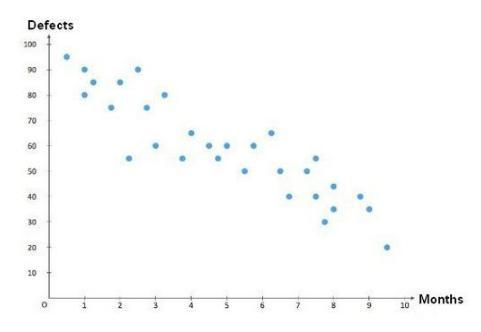axis: (44, 32, 54, 297), (52, 295, 418, 302)
point: (62, 50, 72, 61), (105, 102, 116, 112), (141, 103, 152, 113), (124, 154, 135, 164), (177, 153, 187, 164), (187, 128, 197, 138), (355, 191, 365, 201), (364, 204, 374, 214), (79, 90, 90, 99), (151, 141, 162, 150), (239, 166, 250, 175), (80, 65, 90, 74), (115, 78, 125, 87), (133, 65, 143, 74), (160, 91, 170, 100), (223, 141, 232, 151), (249, 141, 259, 150), (267, 128, 277, 137), (284, 192, 294, 201), (312, 192, 322, 201), (312, 153, 321, 163), (329, 204, 338, 214), (320, 216, 329, 226), (214, 154, 223, 163), (275, 166, 284, 175), (204, 142, 214, 150), (89, 78, 98, 86), (303, 168, 312, 176), (383, 244, 392, 252), (329, 183, 338, 190)
